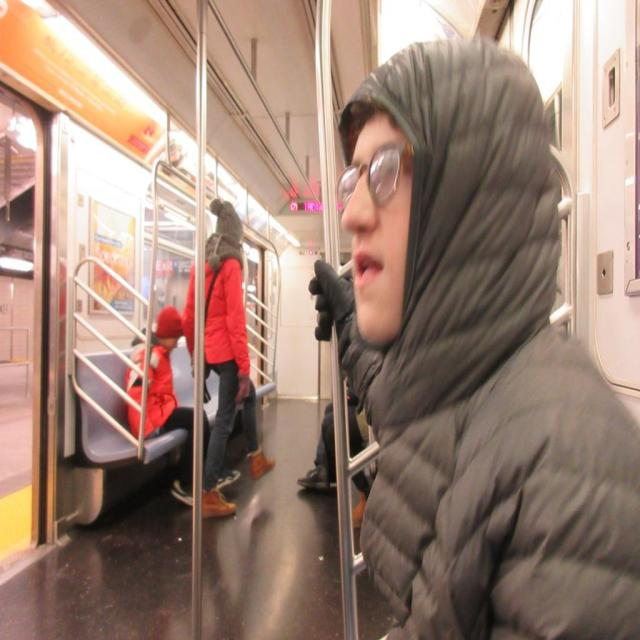body: (304, 33, 640, 640), (179, 189, 277, 523), (121, 303, 245, 511), (294, 386, 382, 539)
